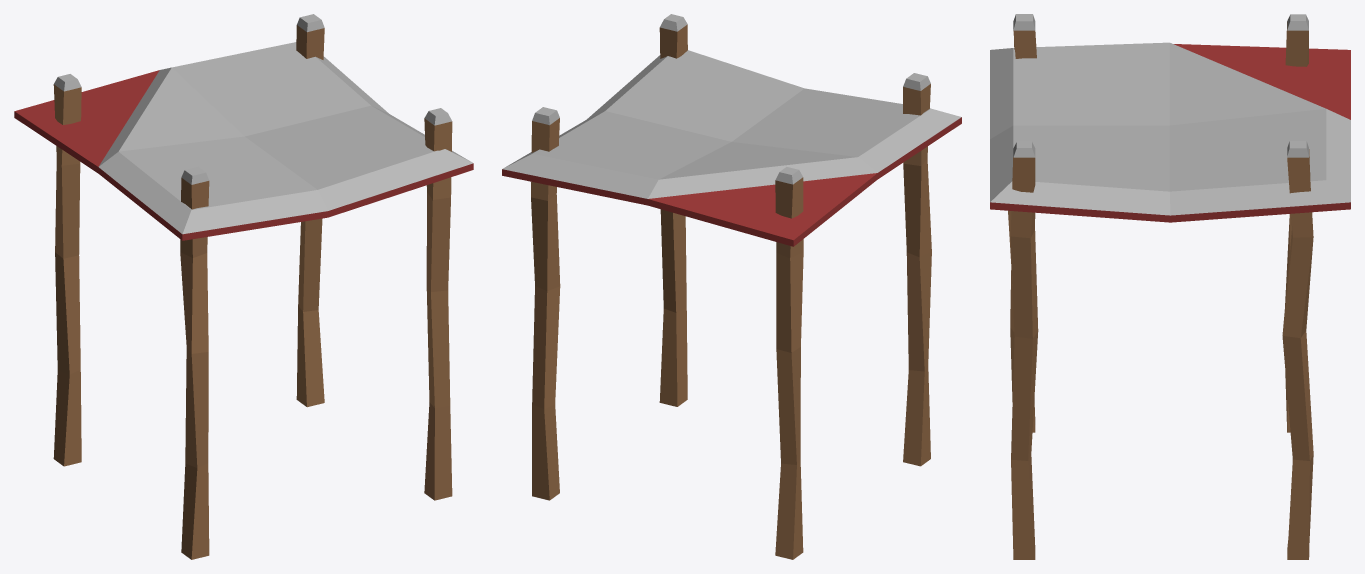
Rendered from Shelter_1 winter.fbx.
The picture shows the model from 3 angles, left to right: view 1: azimuth 30°, elevation 25°; view 2: azimuth 150°, elevation 25°; view 3: azimuth 270°, elevation 25°; orthographic projection. The views are drawn at different scales.
Visible parts, largest first — view 1: ShelterWinter_mesh; view 2: ShelterWinter_mesh; view 3: ShelterWinter_mesh.
Boxes of the visible parts, x1,y1,x2,y2 form: ShelterWinter_mesh: [14, 14, 473, 559]; ShelterWinter_mesh: [502, 14, 961, 559]; ShelterWinter_mesh: [990, 14, 1350, 559].
Size of the model in its own units: 379 by 476 by 379.
